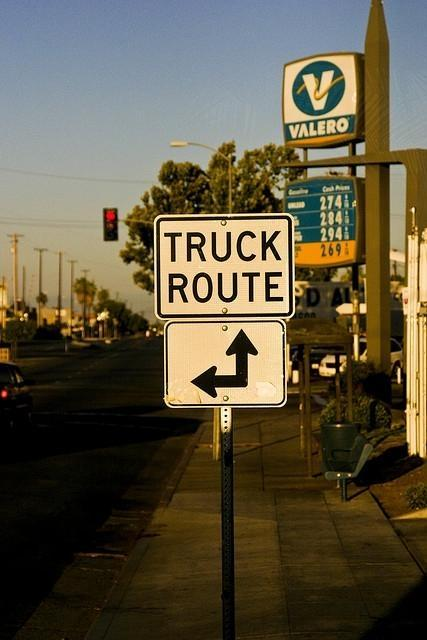car: (1, 360, 30, 422)
